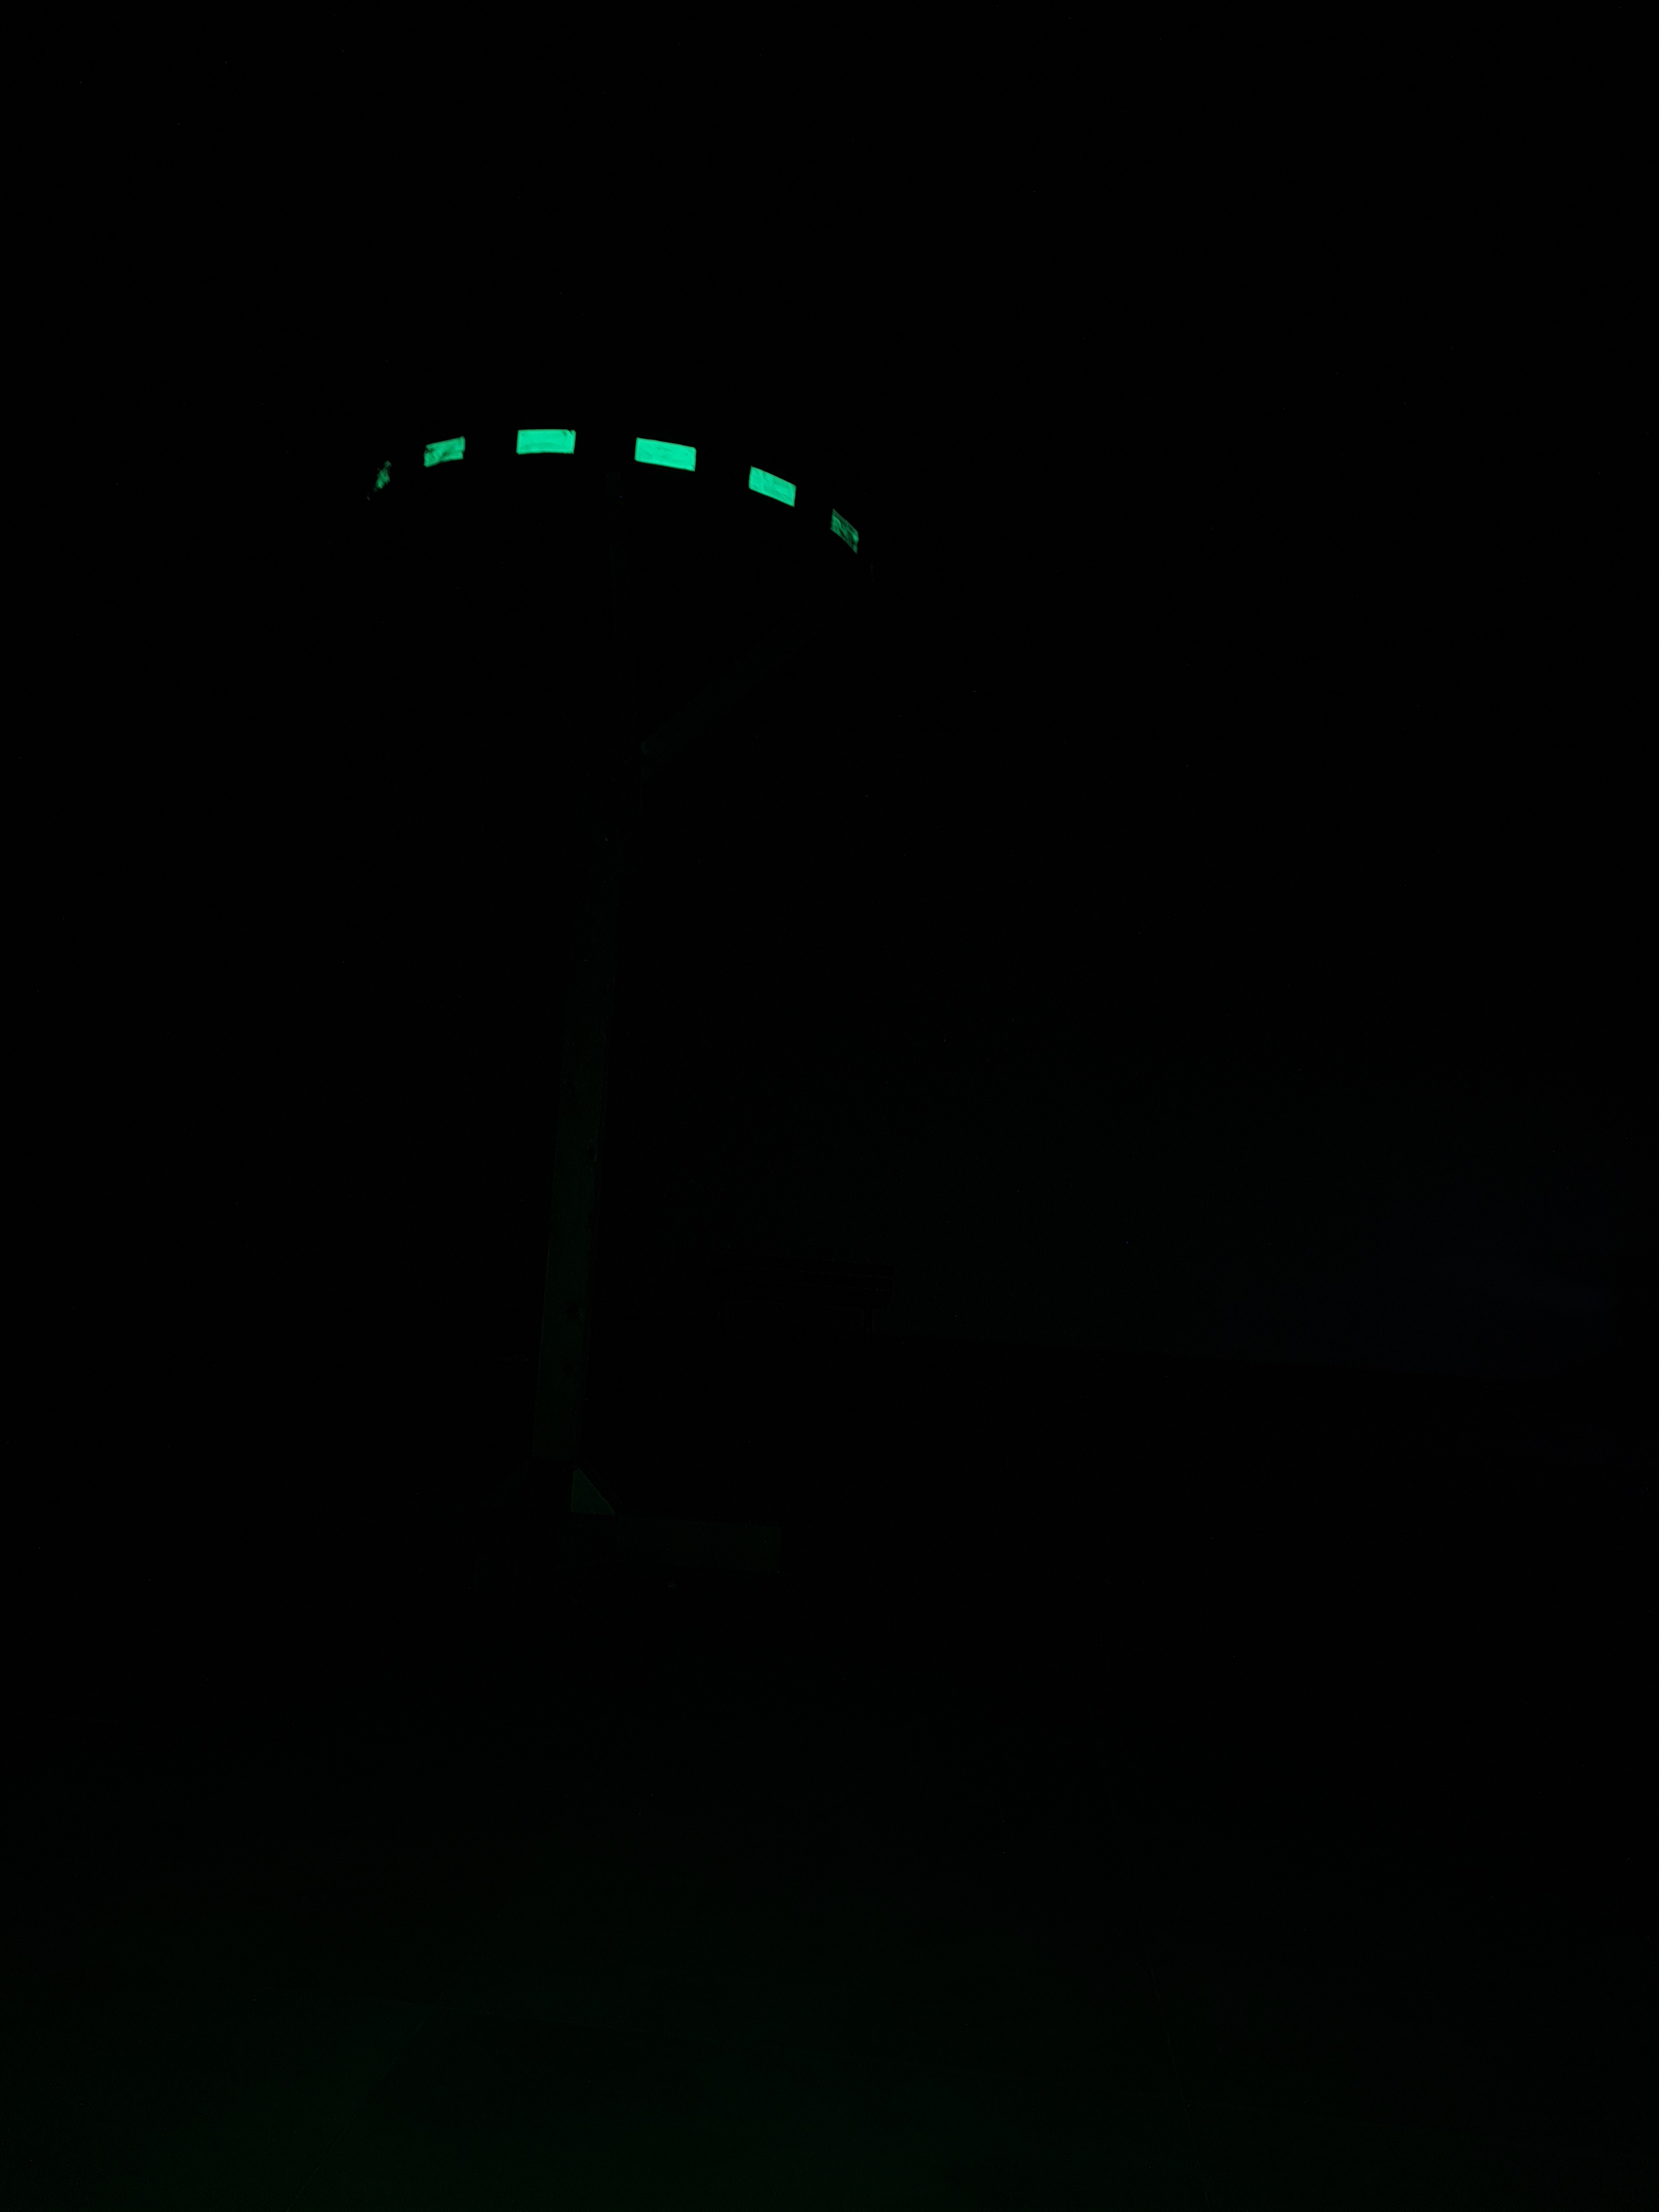hoop: (362, 423, 864, 556)
